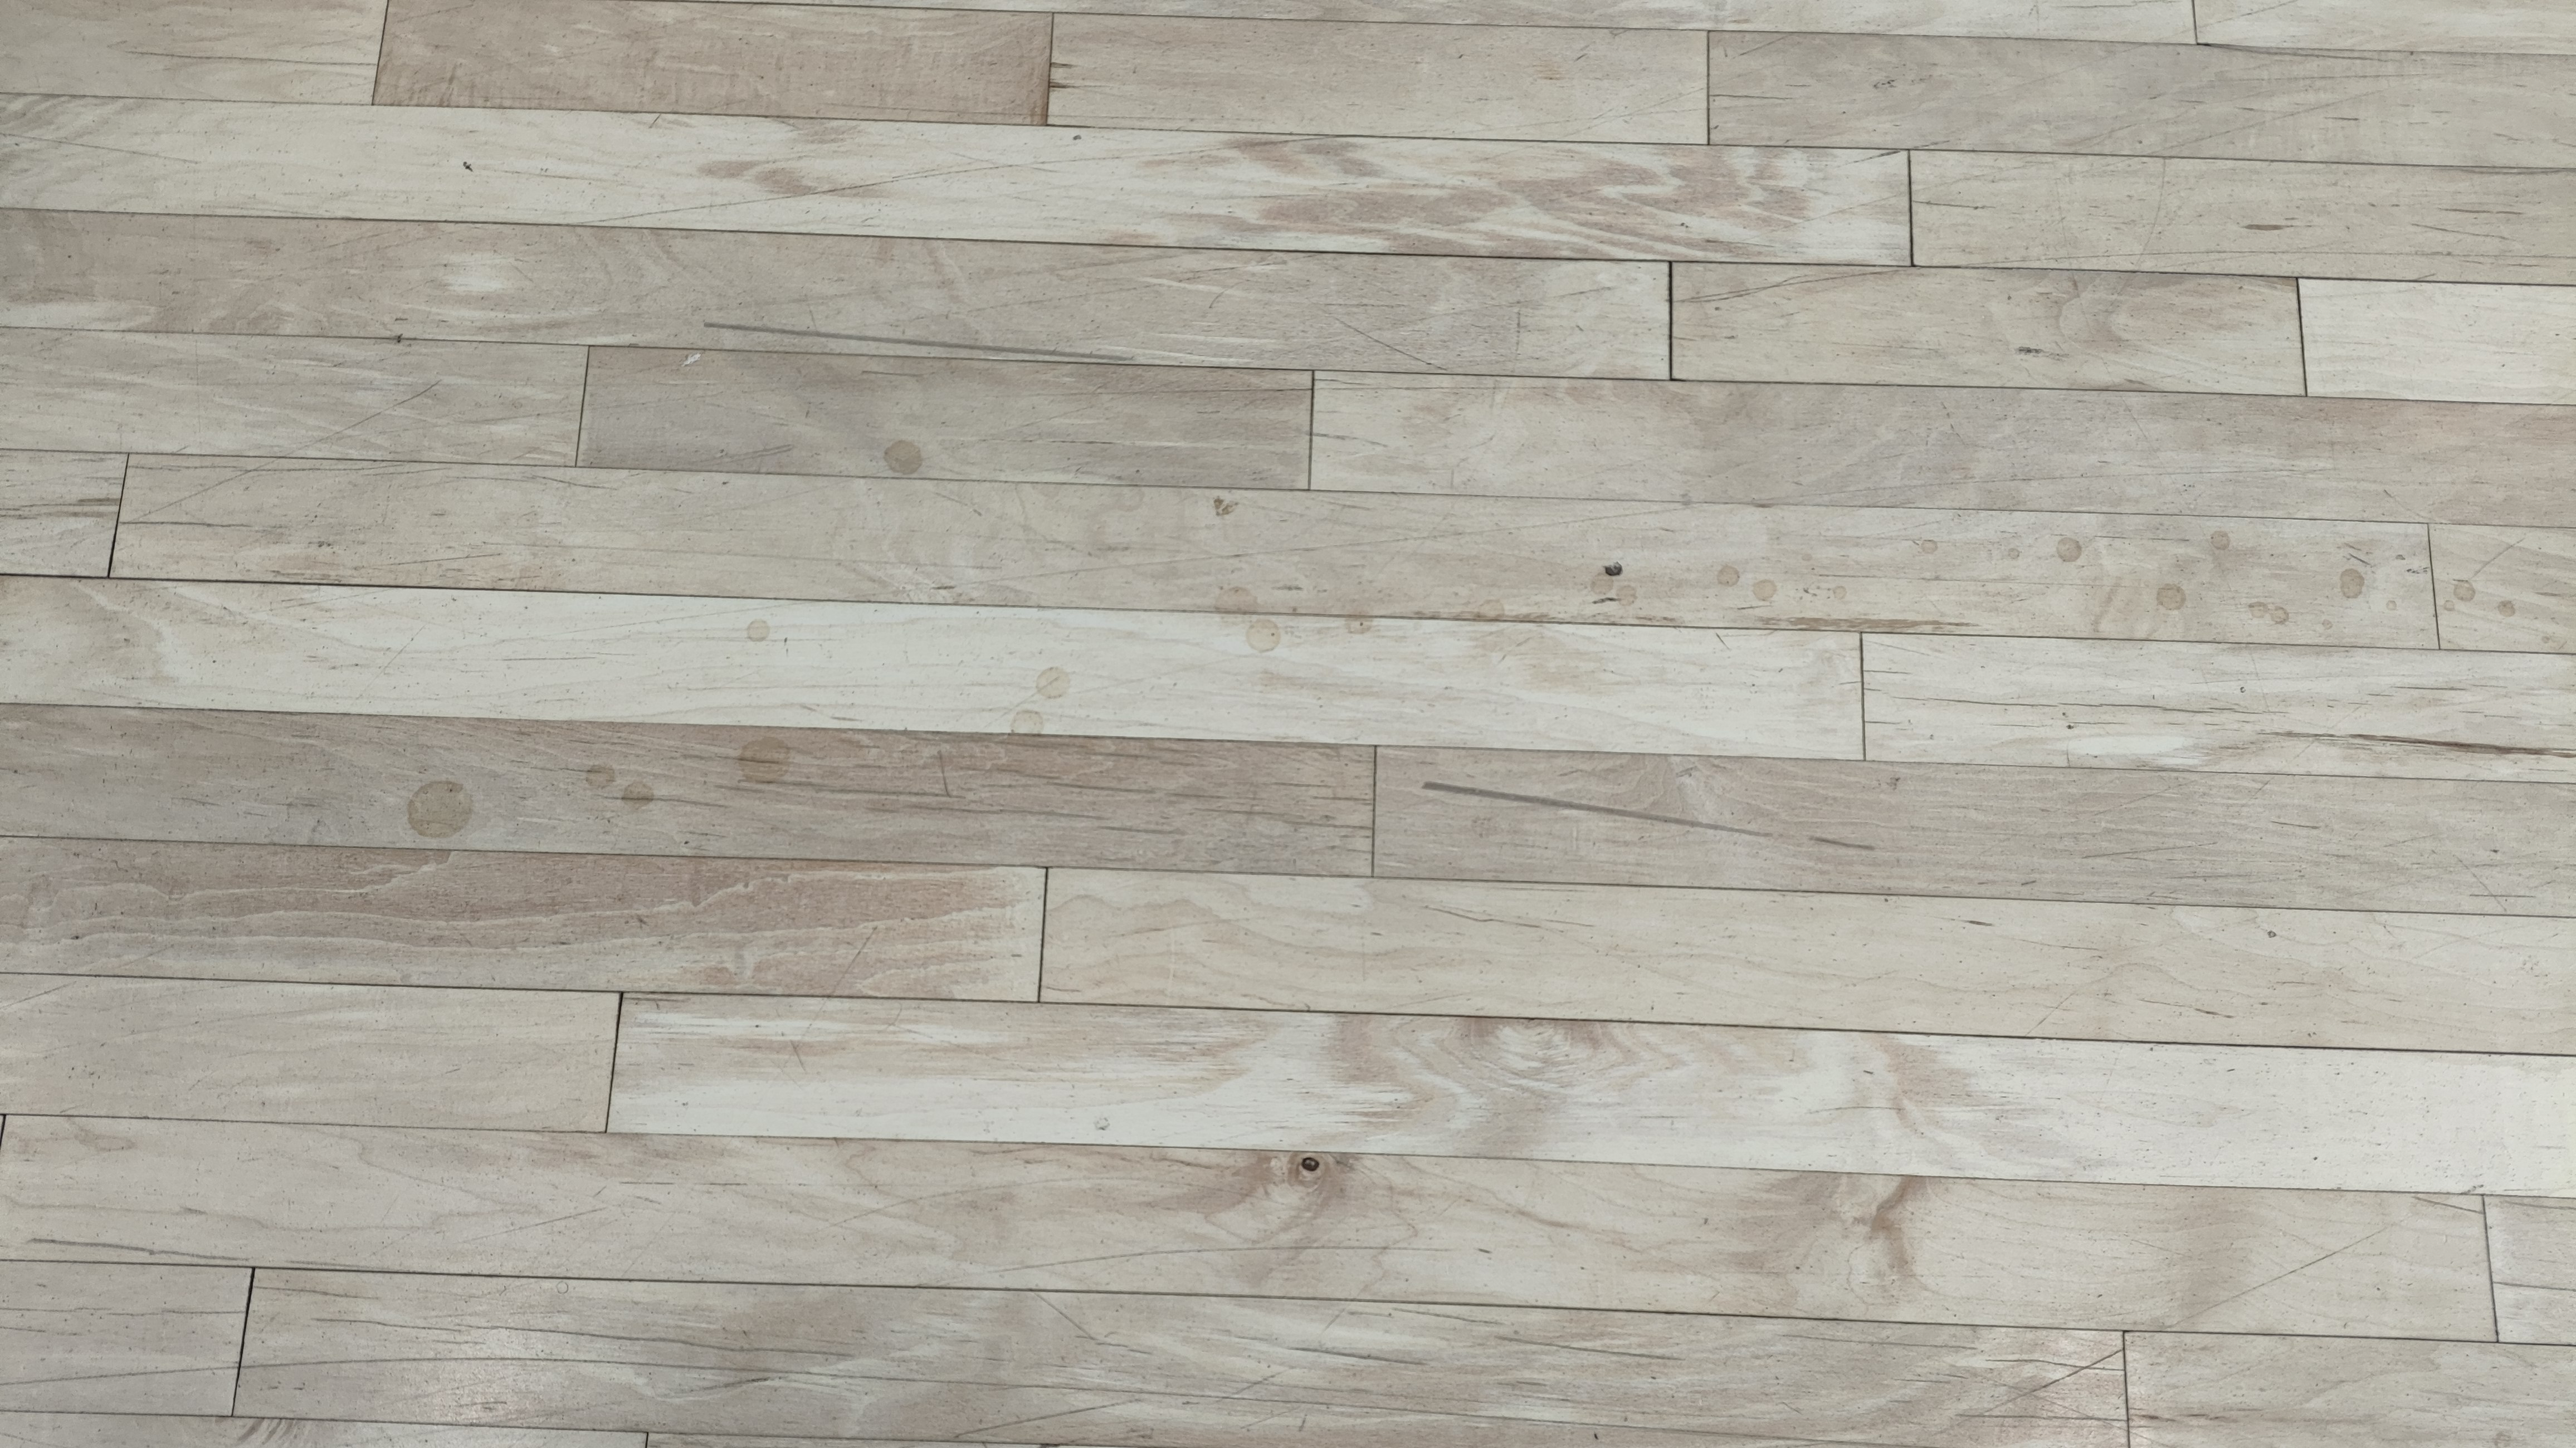Stain: (389, 769, 494, 843), (1208, 585, 1284, 656), (577, 755, 662, 813), (2442, 575, 2534, 626), (729, 734, 810, 789), (1012, 663, 1070, 735), (1713, 562, 1783, 603), (1585, 562, 1642, 608), (2242, 596, 2300, 628), (881, 437, 927, 476), (743, 612, 778, 647), (2155, 582, 2192, 615), (2337, 569, 2367, 603), (2212, 527, 2238, 553), (2058, 536, 2084, 560)
